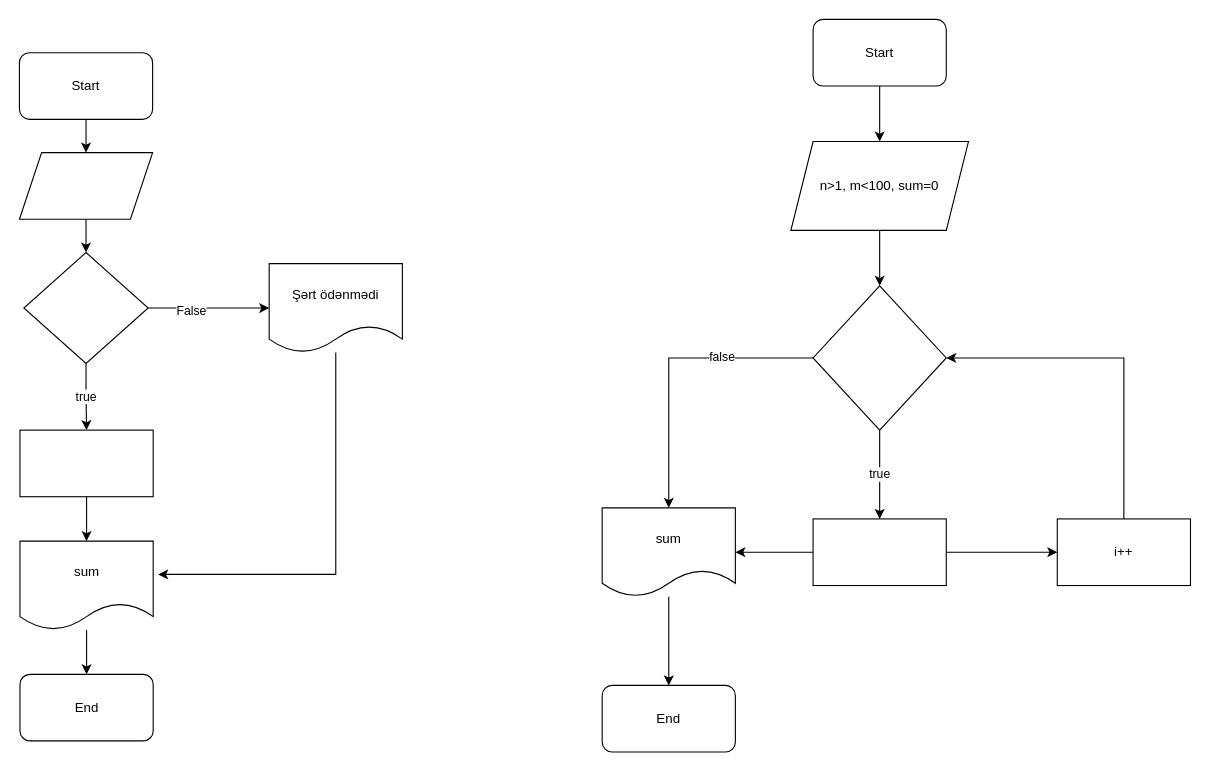
The diagram is 1210 pixels wide and 771 high, and some of its shapes have lost their labels. The shapes that lost their labels are listed below. From the top down, each one's box as (x1, y1, x2, y2) in pixels, then its label:
(18, 152, 153, 219): n = 20, m = 50, sum=0
(23, 251, 148, 364): i=n; i<m; i++
(812, 285, 946, 430): i=n; i<m
(19, 429, 153, 497): sum = sum + i
(812, 518, 946, 586): sum = sum +i
